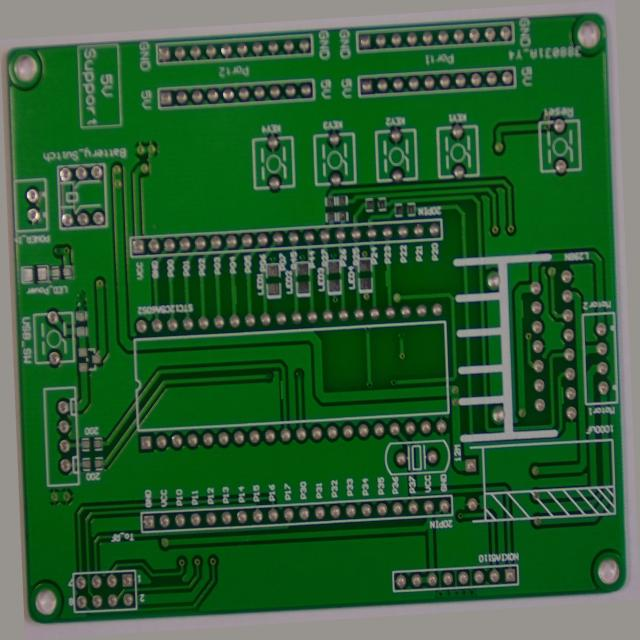spur: (270, 377, 285, 406), (384, 268, 401, 293), (225, 273, 240, 299), (560, 402, 572, 430), (523, 309, 535, 335)
